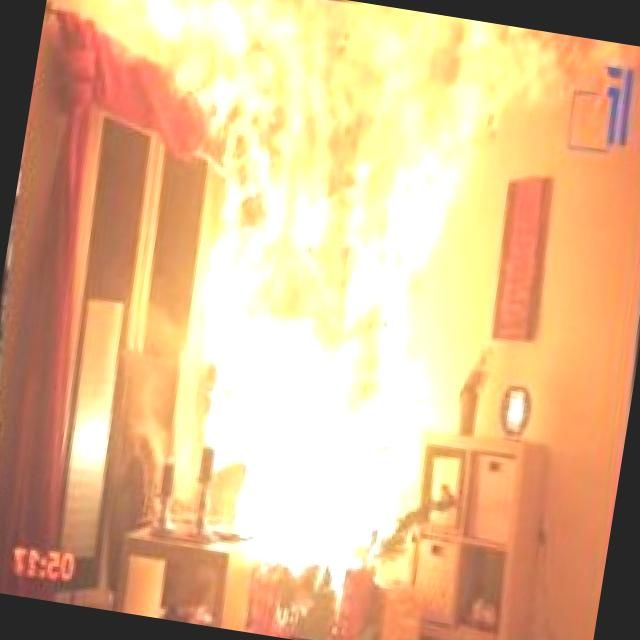fire: (53, 0, 596, 611)
